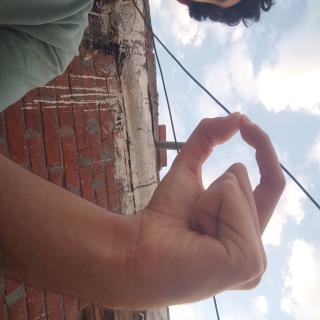FAA: (78, 39, 240, 279)
